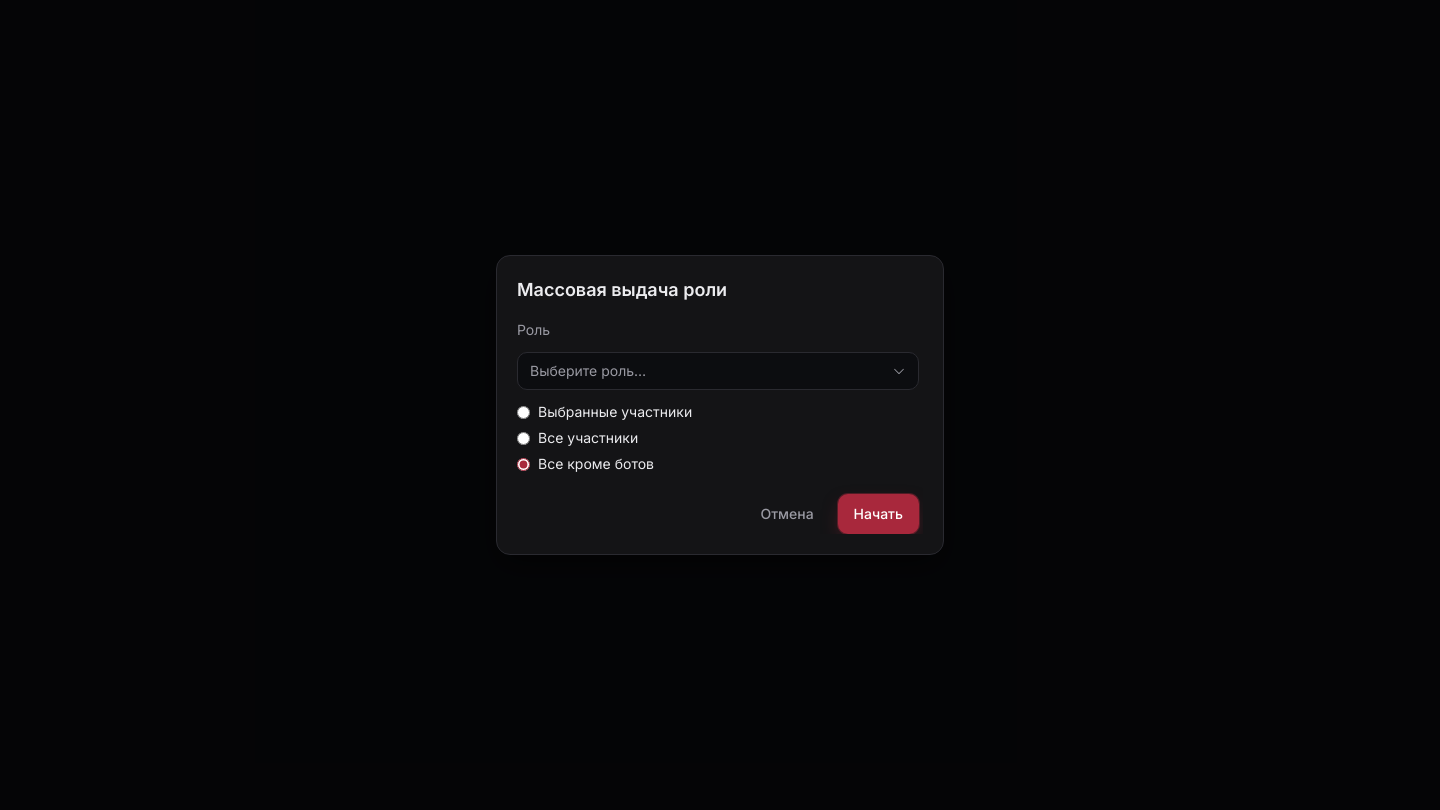
Scenario: MassAssignModal › shows an error when starting without selecting a role
Expected: the button labelled "Выберите роль…" is shown, [517, 352, 919, 390]
What coordinates should you click on to do the following:
click the button "Начать"
I would click on:
 (878, 514)
Its box is [838, 494, 919, 534].
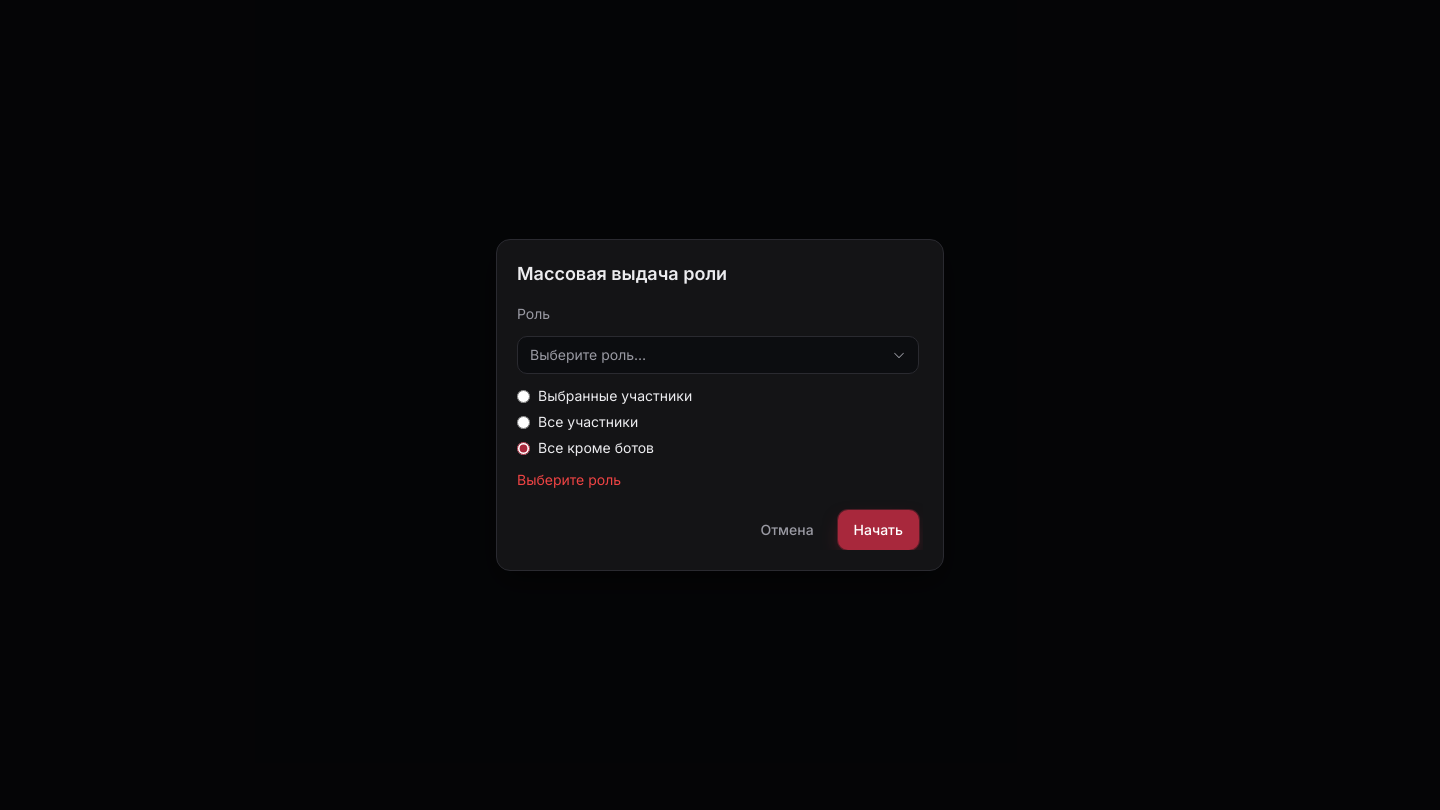
Now the text "Выберите роль" is shown, box [517, 471, 621, 488]
